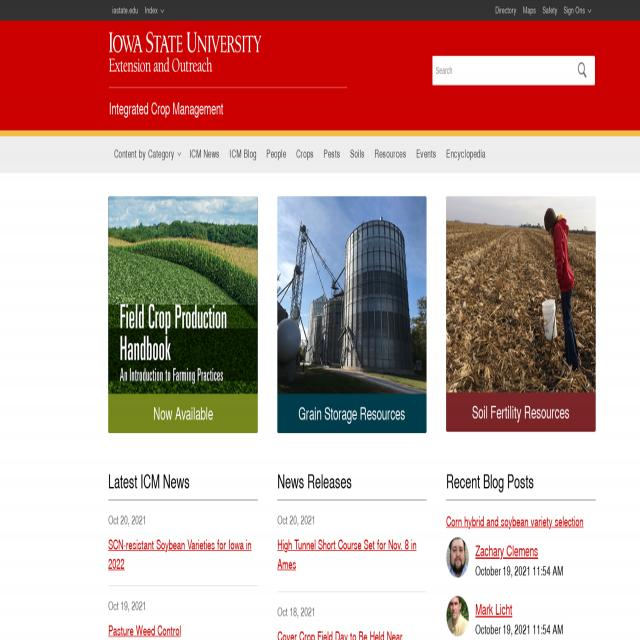button: (108, 196, 258, 435), (277, 196, 427, 433), (447, 197, 596, 430), (109, 32, 261, 72), (110, 136, 184, 172), (442, 136, 491, 172), (370, 136, 411, 172), (184, 136, 224, 172), (224, 136, 262, 172), (411, 136, 442, 172), (262, 136, 292, 172), (446, 537, 469, 578), (292, 136, 318, 172), (319, 136, 345, 172), (446, 594, 468, 635), (345, 136, 370, 172), (568, 56, 596, 86), (561, 0, 595, 21), (109, 0, 141, 21), (492, 0, 520, 21), (142, 0, 168, 21), (539, 0, 561, 21), (520, 0, 539, 21)
field: (432, 55, 568, 85)
